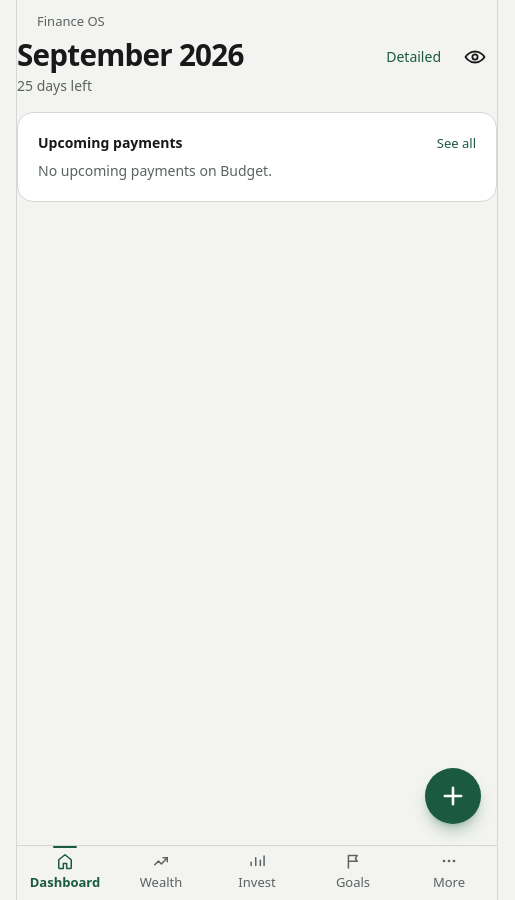
Scenario: home screen › keeps Home clear and opens Detailed from the top right
Check: the heading "September 2026" is shown, box [17,35,244,74]
Check: the text "No spending yet" is not shown
Click the link "Detailed": (414,56) [386,47,441,66]
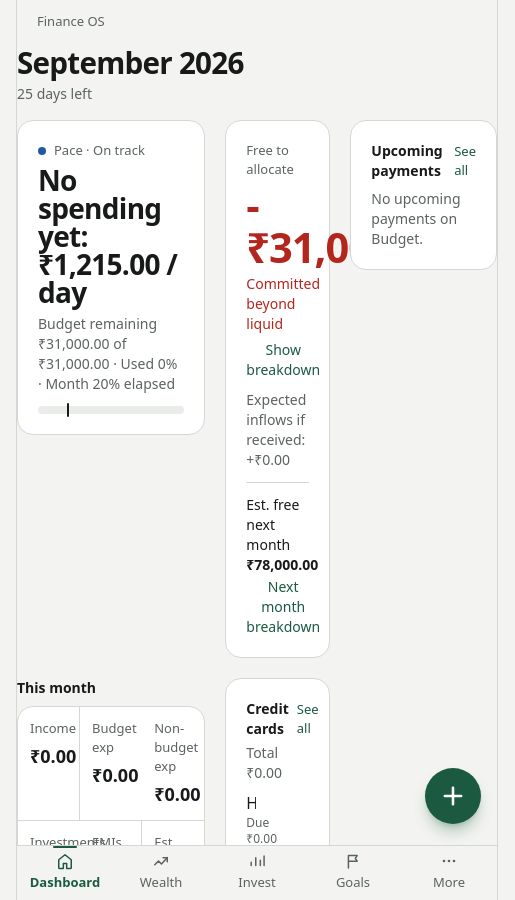
Check: the text "No spending yet: ₹1,215.00 / day" is shown, box [38,161,177,311]
